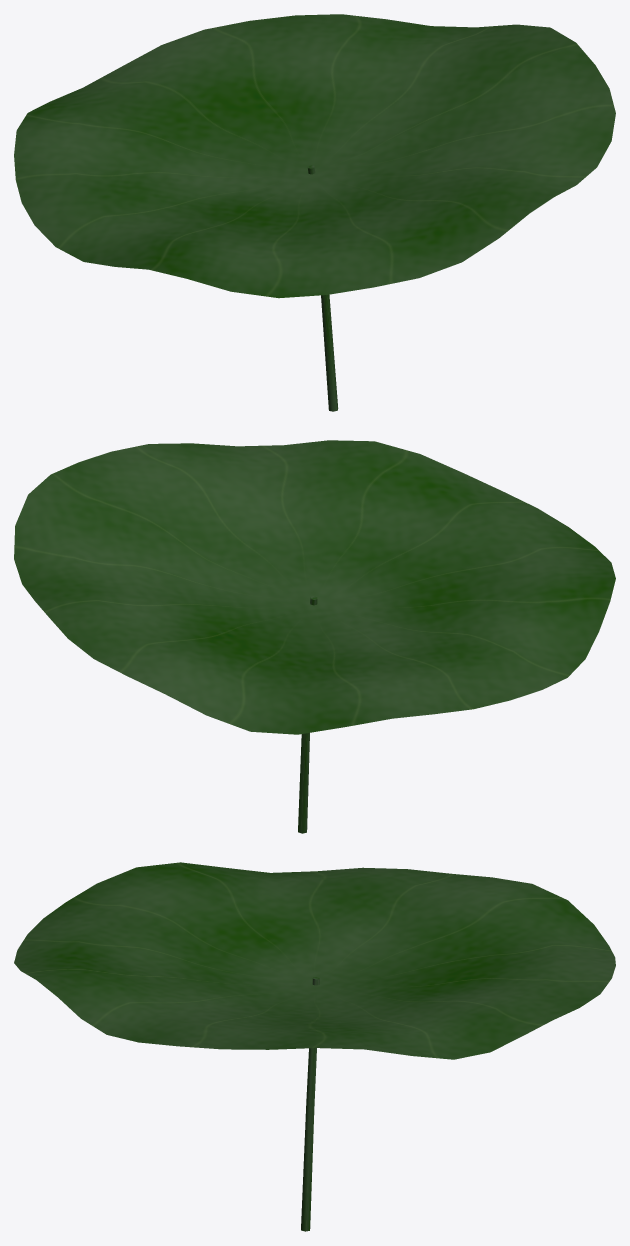
The model's file is leaf_B_lod0.glb.
3 views of the same model, one above another, from view 1: azimuth 30°, elevation 25°; view 2: azimuth 150°, elevation 25°; view 3: azimuth 270°, elevation 25° (orthographic).
Parts seen in each view (by area): view 1: leaf_B_L0__leaf; view 2: leaf_B_L0__leaf; view 3: leaf_B_L0__leaf.
Boxes of the visible parts, box(x1,y1,x2,y2) form: leaf_B_L0__leaf: box(14, 14, 615, 411); leaf_B_L0__leaf: box(14, 440, 615, 833); leaf_B_L0__leaf: box(14, 862, 615, 1231).
Size of the model in its own units: 1.38 by 0.7668 by 1.38.
Materials: 1 (1 with a texture image).
